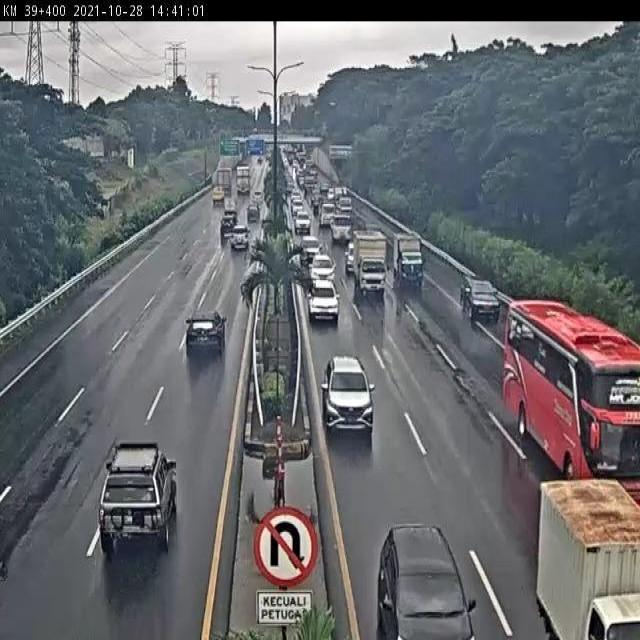big bus: (504, 298, 640, 498)
car: (97, 442, 179, 554), (321, 355, 373, 433), (184, 309, 226, 356), (459, 276, 502, 321), (305, 279, 340, 321)
mid truck: (352, 228, 385, 293), (392, 231, 424, 284), (309, 252, 337, 285)
